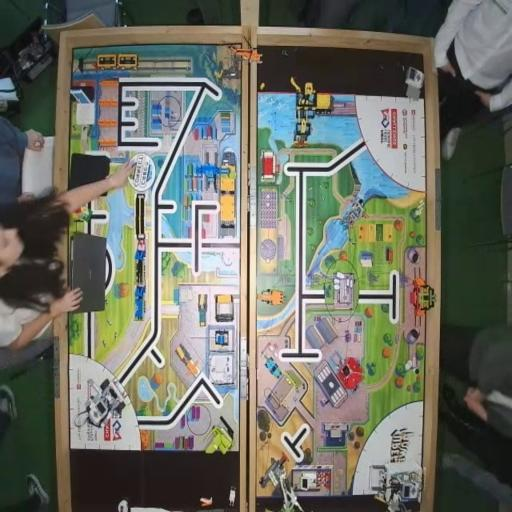lego_robot: (369, 463, 424, 512), (86, 377, 128, 430)
